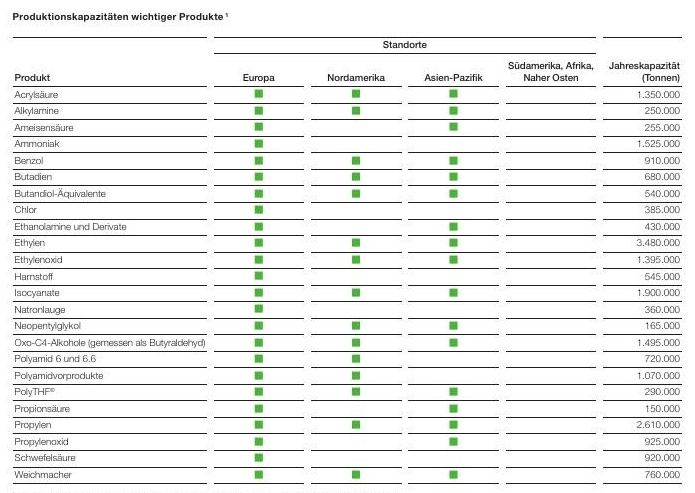table: (0, 0, 695, 493)
